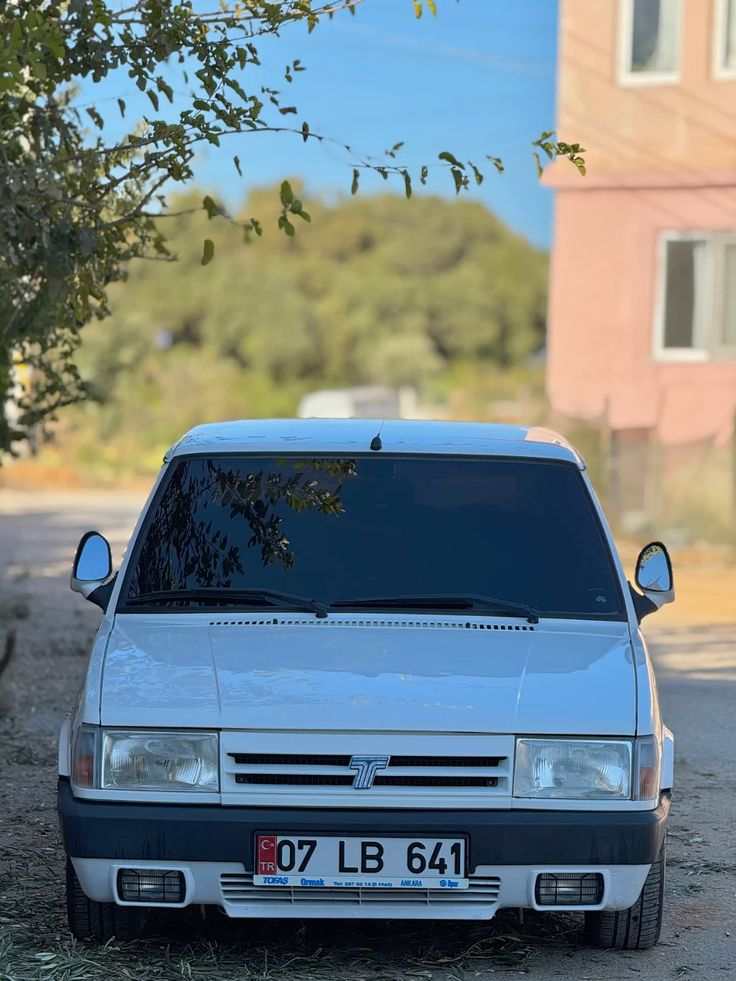plate: (253, 833, 468, 882)
